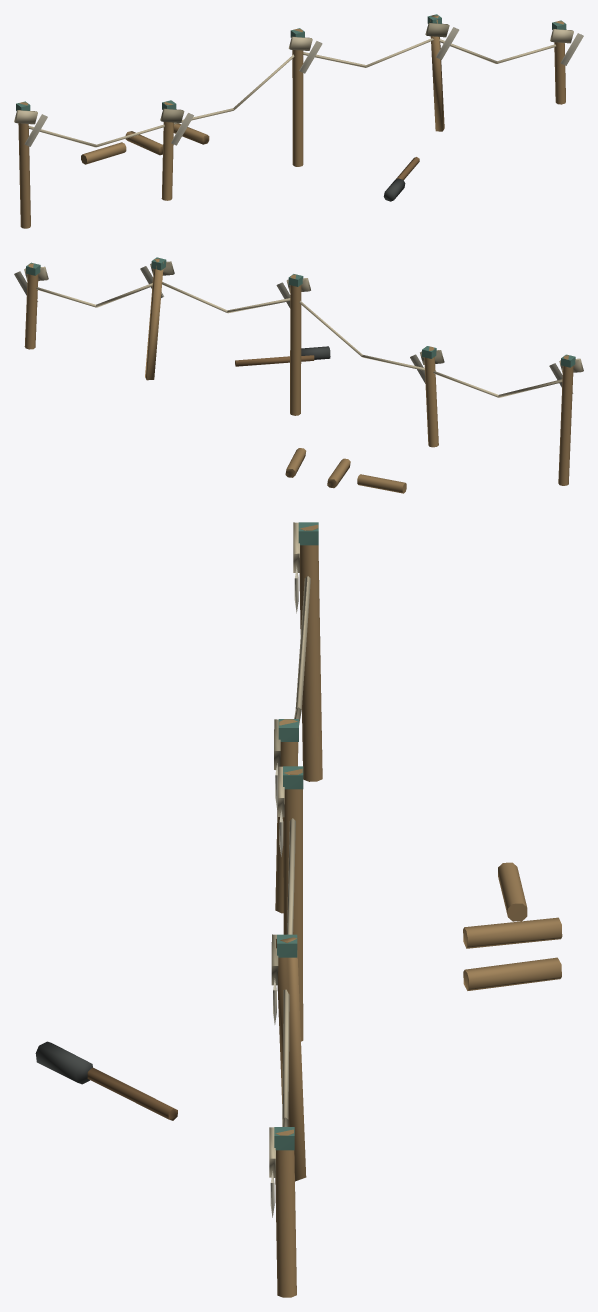
File: survey_stakes_a_lod1.glb
3 views of the same model, one above another, from view 1: azimuth 30°, elevation 25°; view 2: azimuth 150°, elevation 25°; view 3: azimuth 270°, elevation 25° (orthographic). The views are drawn at different scales.
Visible parts, largest first — view 1: Surface.001; view 2: Surface.001; view 3: Surface.001.
Part boxes in pixels (x1=…): Surface.001: x1=14, y1=14, x2=583, y2=228; Surface.001: x1=14, y1=257, x2=583, y2=493; Surface.001: x1=35, y1=522, x2=562, y2=1297.
Size of the model in its own units: 3.34 by 0.7604 by 1.35.
